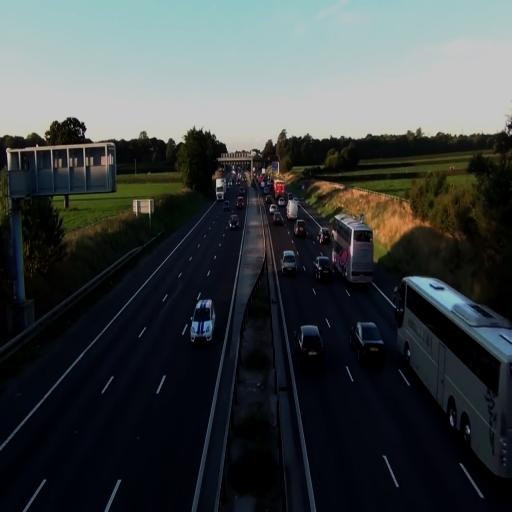vehicle: (394, 276, 512, 480), (332, 215, 374, 285), (332, 216, 374, 285), (350, 321, 386, 365), (297, 325, 325, 370), (190, 296, 215, 346), (313, 255, 333, 283), (280, 250, 298, 276), (268, 205, 284, 224), (318, 226, 332, 246), (294, 220, 307, 240), (229, 214, 239, 230)
